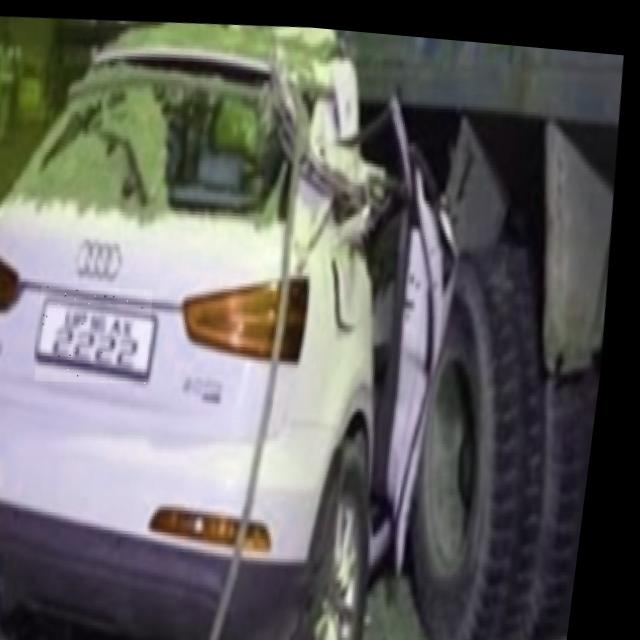license_plate: (39, 278, 165, 387)
